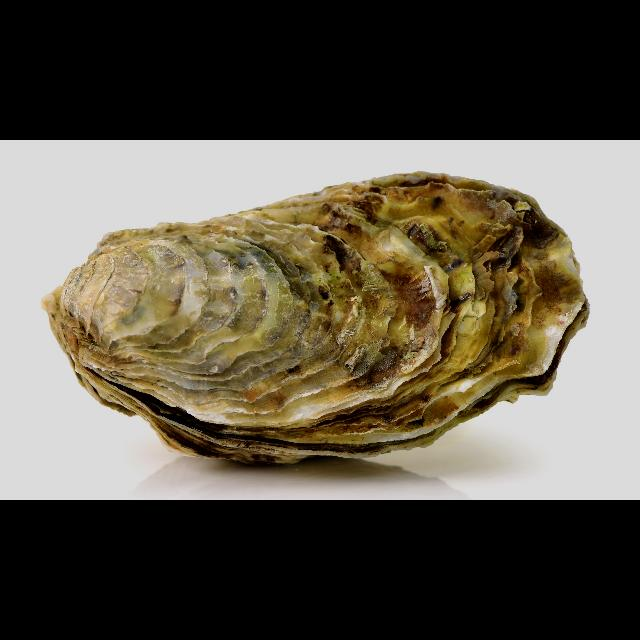Oyster-Closed: (43, 170, 590, 462)
